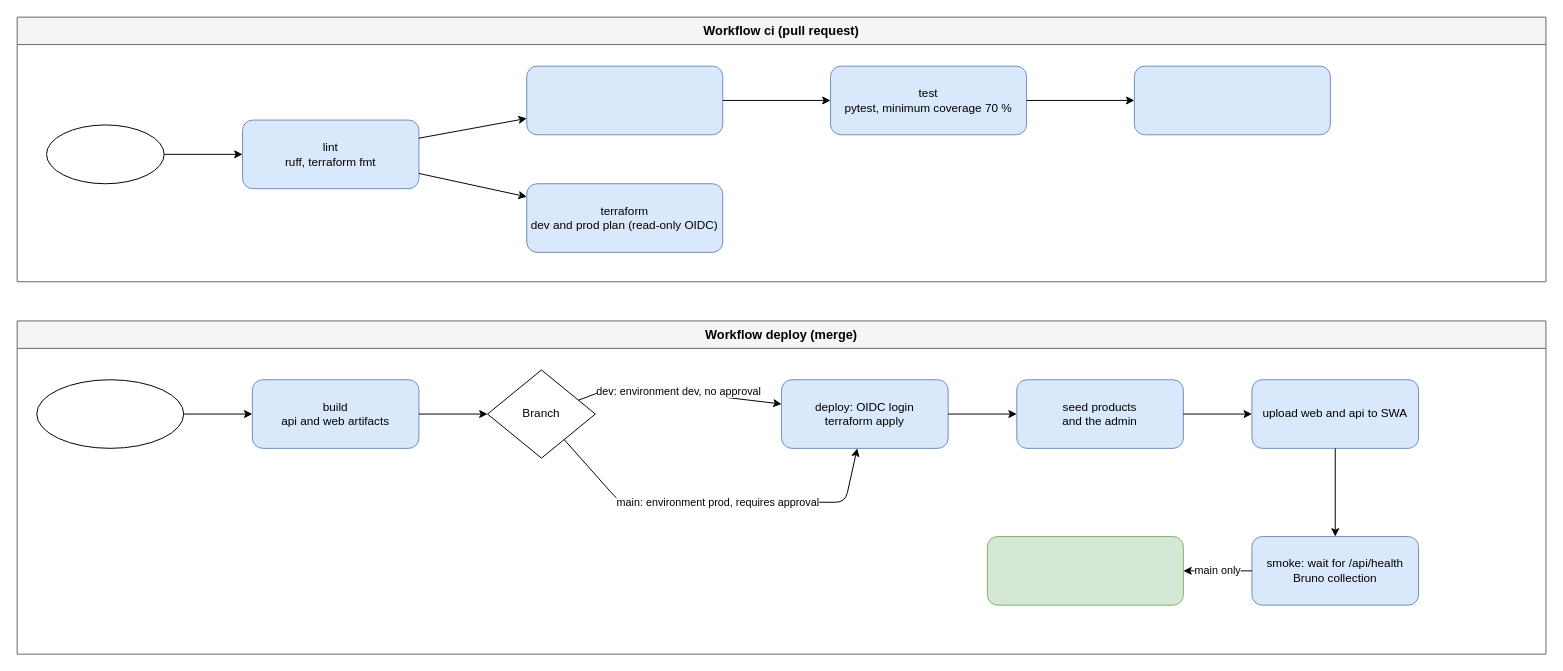
Some shapes in this 1563 by 671 pixel diagram are drawn without their labels. Each missing label, with the centre of its shape:
build packages api/ and web/: the point at 1231,100
Pull request: the point at 105,154
Push to dev or main (PR merge): the point at 110,413
release: release-vN artifact (90 days) tag vN: the point at 1084,570
security Checkov, CodeQL: the point at 624,100
